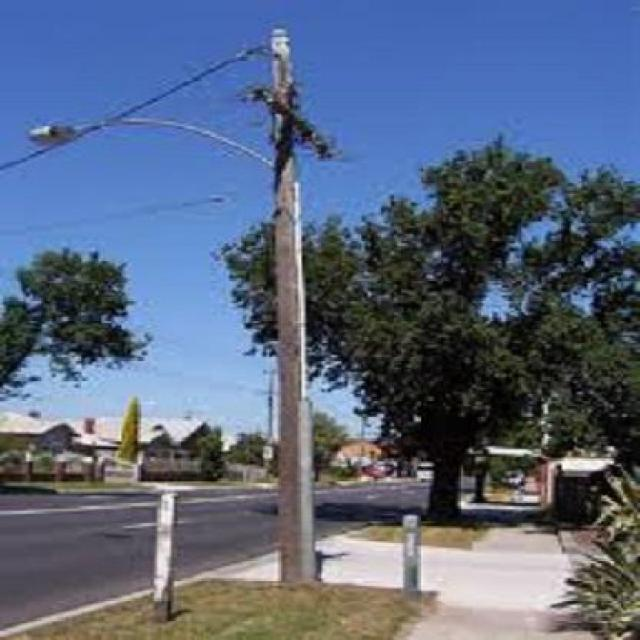pole: (206, 32, 362, 576)
